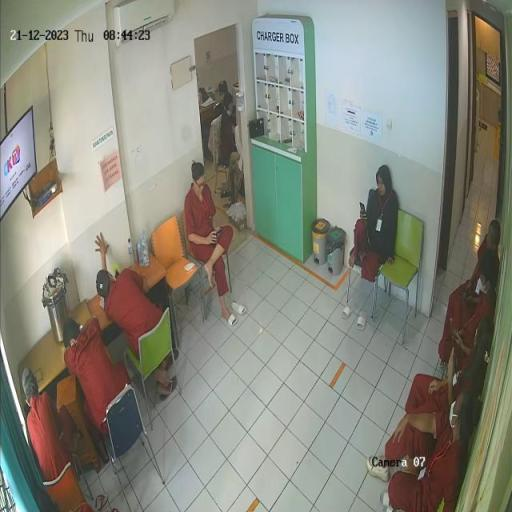person: (368, 316, 496, 484), (96, 232, 180, 403), (383, 389, 484, 512), (64, 318, 132, 464), (438, 220, 503, 368), (343, 165, 401, 326), (185, 160, 238, 327), (440, 251, 501, 365), (23, 368, 82, 485), (221, 93, 238, 171)
